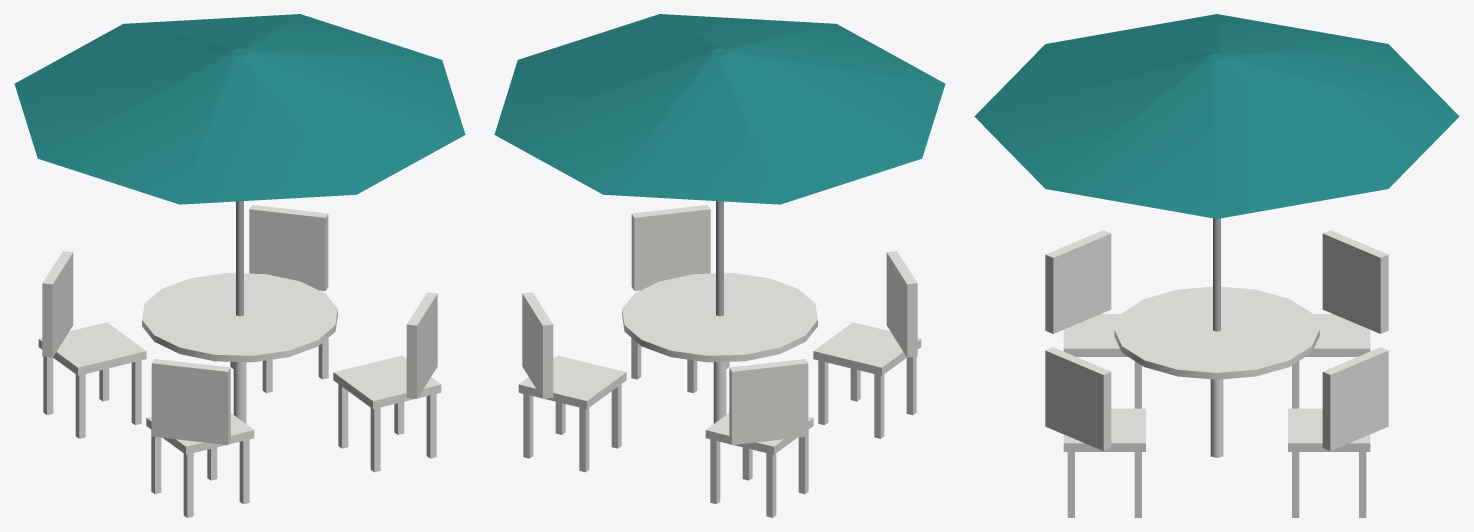
The model's file is sb_patio_set.glb.
The picture shows the model from 3 angles, left to right: view 1: azimuth 30°, elevation 25°; view 2: azimuth 150°, elevation 25°; view 3: azimuth 270°, elevation 25°; orthographic projection. The views are drawn at different scales.
Parts seen in each view (by area): view 1: sb_patio_set; view 2: sb_patio_set; view 3: sb_patio_set.
Boxes of the visible parts, x1,y1,x2,y2 form: sb_patio_set: (14, 14, 465, 517); sb_patio_set: (494, 14, 945, 517); sb_patio_set: (974, 14, 1459, 517).
Bounding box in the file's own units: 2.6 × 2.35 × 2.6.
